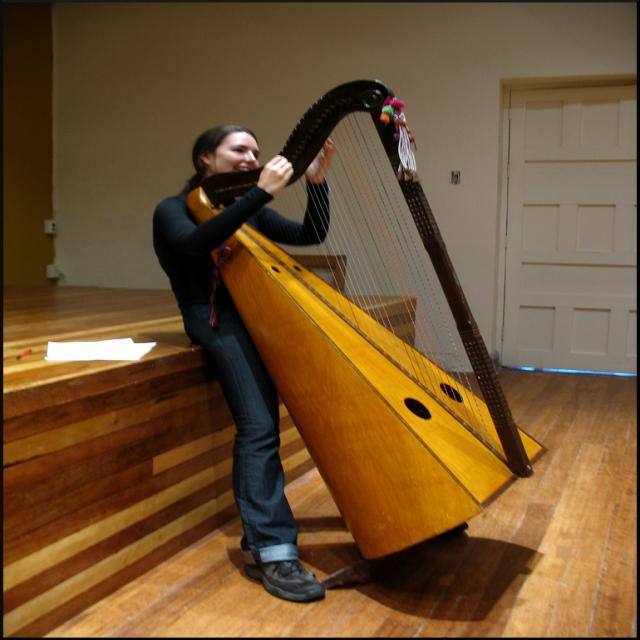harp: (172, 75, 559, 561)
